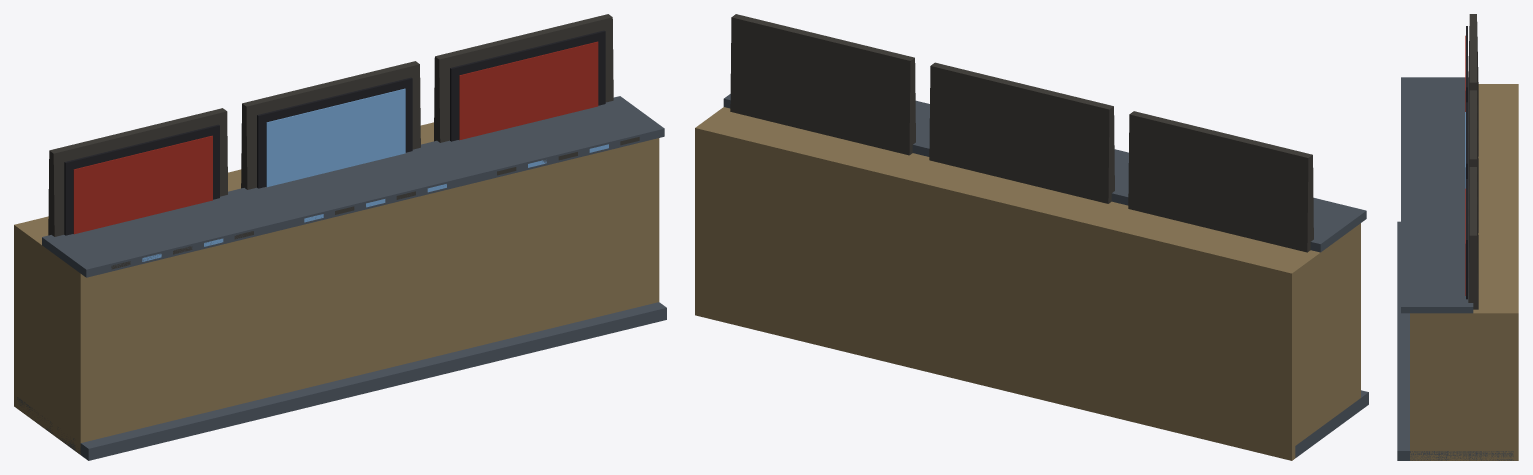
The model's file is separatist_console_bank.glb.
The picture shows the model from 3 angles, left to right: view 1: azimuth 30°, elevation 25°; view 2: azimuth 150°, elevation 25°; view 3: azimuth 270°, elevation 25°; orthographic projection. The views are drawn at different scales.
Visible parts, largest first — view 1: separatist_console_bank; view 2: separatist_console_bank; view 3: separatist_console_bank.
Part boxes in pixels (bbox=[...]): separatist_console_bank: bbox=[14, 14, 666, 460]; separatist_console_bank: bbox=[695, 14, 1368, 460]; separatist_console_bank: bbox=[1397, 14, 1518, 460].
Bounding box in the file's own units: 3 × 1.35 × 0.67.
